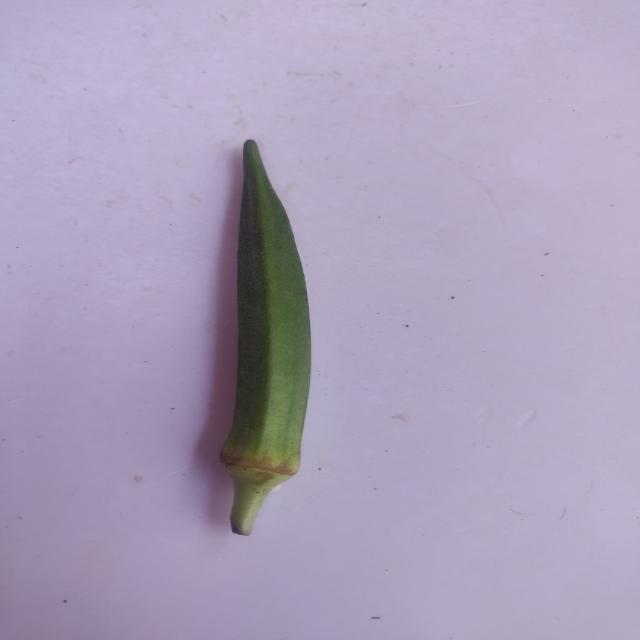Ladies Finger: (178, 128, 342, 550)
